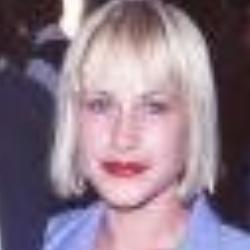face: (34, 1, 234, 211)
